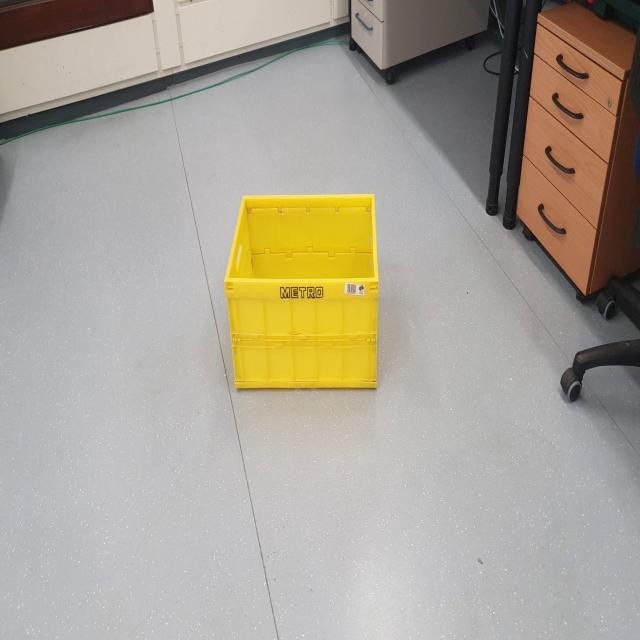box: (218, 171, 395, 408)
